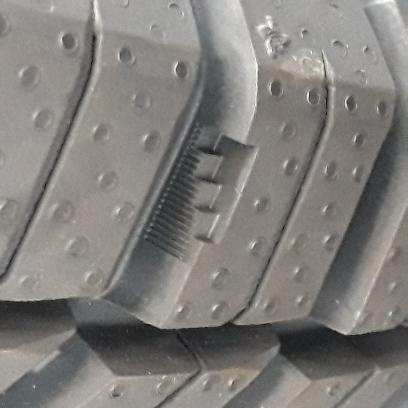temoin:100: (141, 118, 263, 268)
